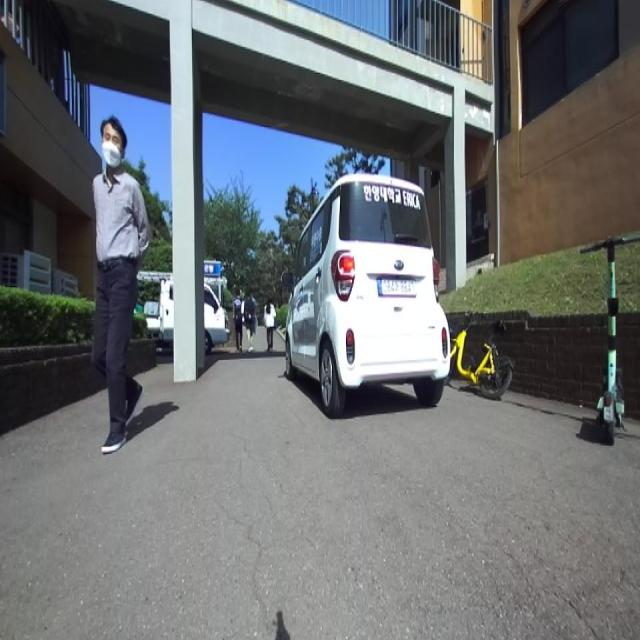sidewalk: (0, 332, 640, 639)
